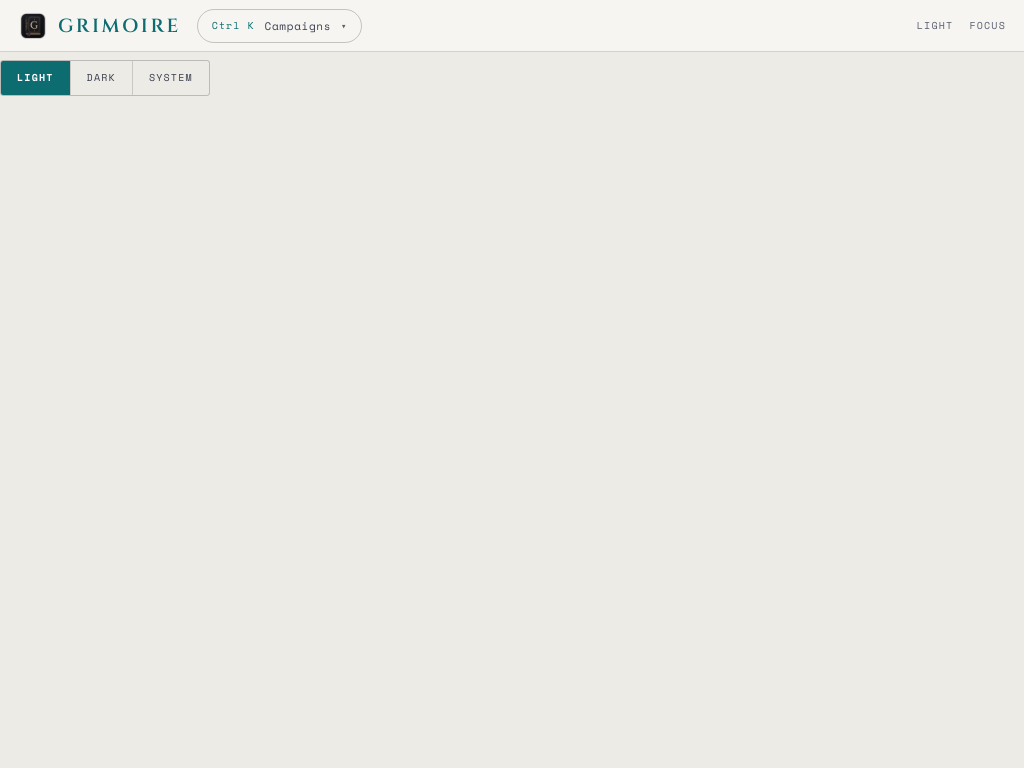
Test: a deferred picker theme write holds both controls until refusal and retry
What coordinates should you click on to do the following:
click the button "DARK"
I would click on:
 (101, 78)
Its box is x1=70 y1=61 x2=132 y2=95.
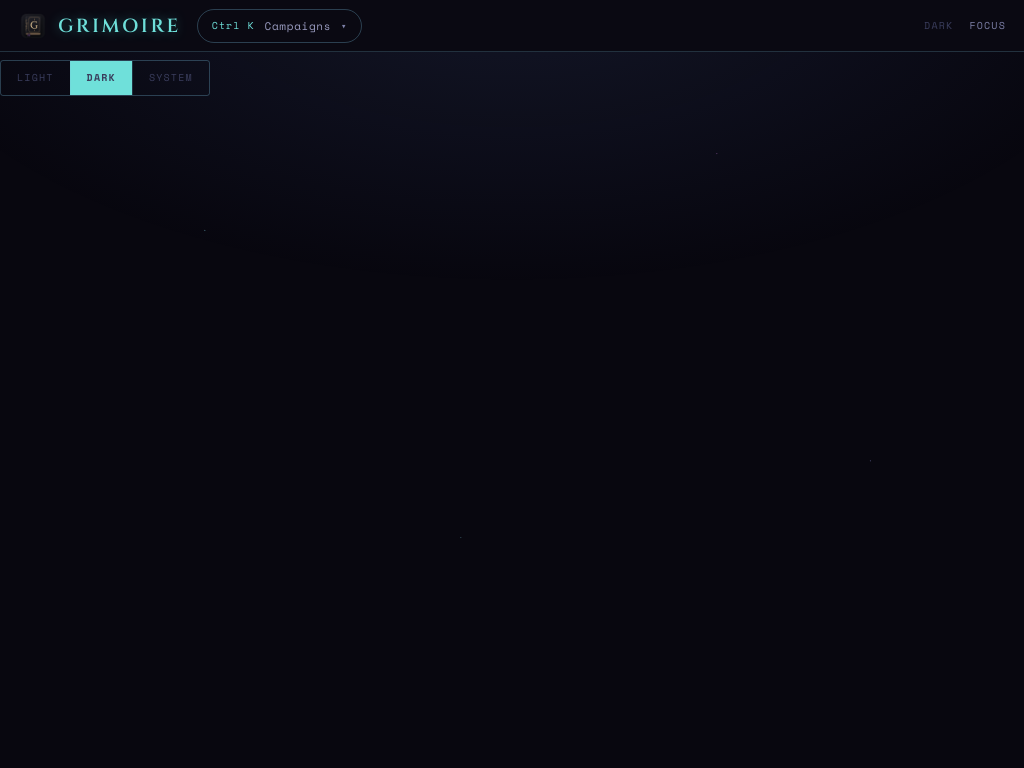
Check: the button with aria-label "Switch to light theme" is disabled
Check: the button "LIGHT" is disabled, box x1=1 y1=61 x2=70 y2=95
Check: the 2nd button "DARK" is disabled, box x1=70 y1=61 x2=132 y2=95
What coordinates should you click on to do the following:
click the button with aria-label "Switch to light theme"
I would click on:
 (939, 26)
Its box is x1=924 y1=18 x2=953 y2=33.
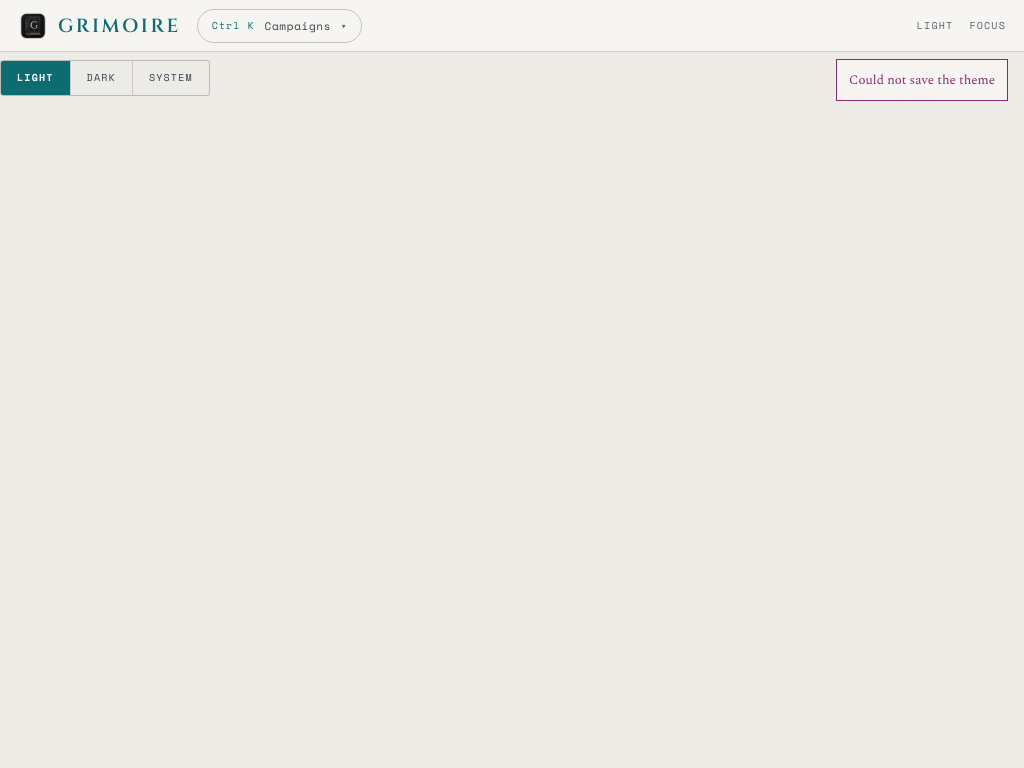
Check: the message reads "Could not save the theme", box x1=849 y1=70 x2=995 y2=90
Check: the button with aria-label "Switch to dark theme" is enabled, box x1=917 y1=18 x2=953 y2=33
What coordinates should you click on to do the following:
click the button "SYSTEM"
I would click on:
 (170, 78)
Its box is x1=132 y1=61 x2=209 y2=95.
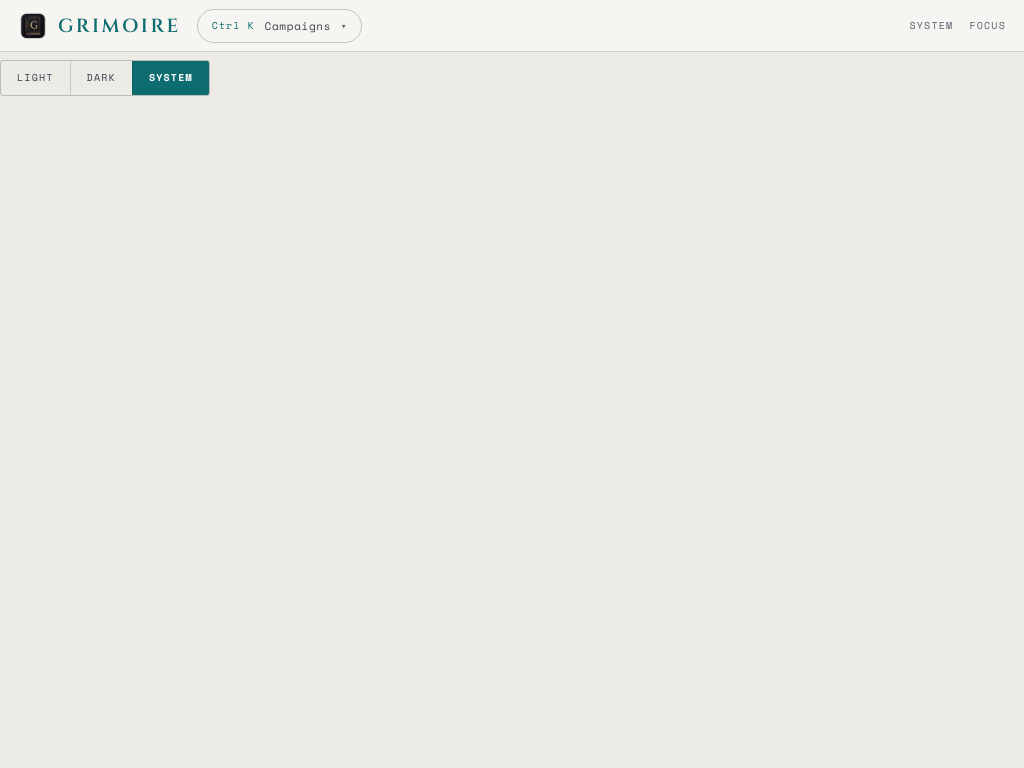
Check: the 2nd button "SYSTEM" is enabled, box x1=132 y1=61 x2=209 y2=95
Check: the message "Could not save the theme" is gone
